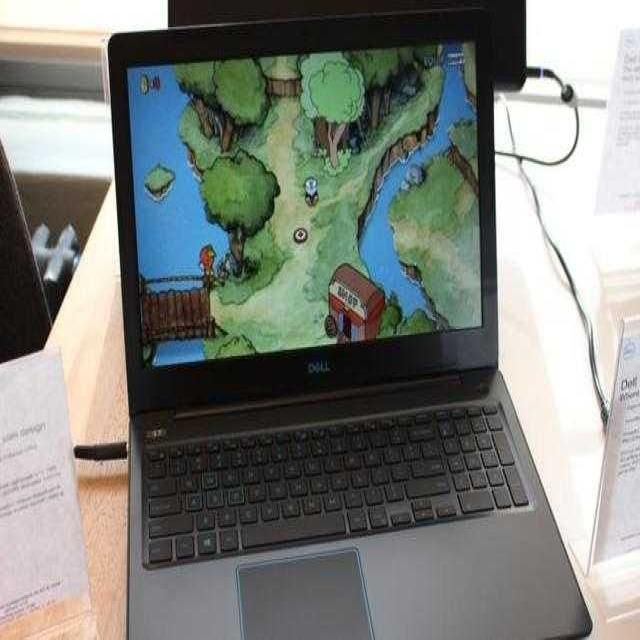laptop: (109, 31, 511, 640)
